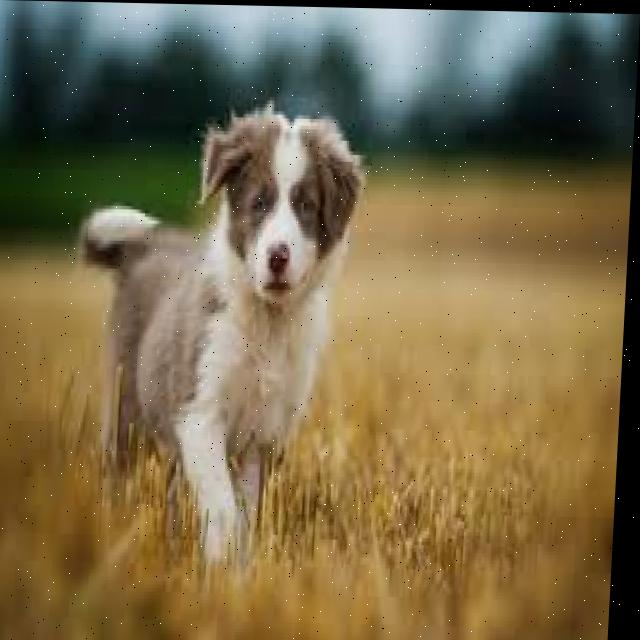BORDER_COLLIE: (56, 73, 376, 563)
